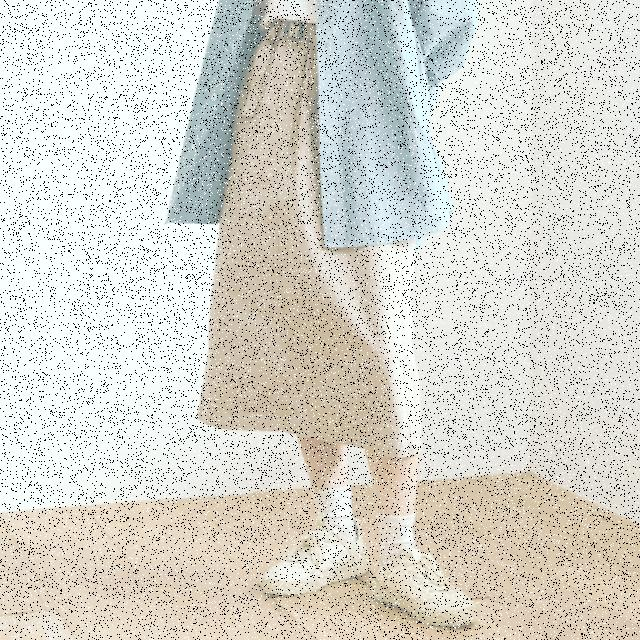dress: (192, 0, 435, 472)
